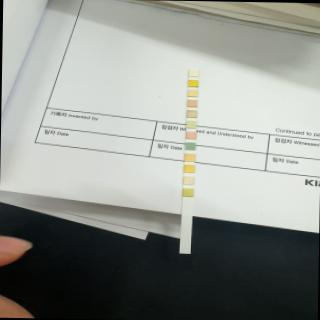mark: (182, 176, 194, 185), (186, 99, 198, 107), (184, 164, 194, 173), (182, 188, 193, 196), (188, 79, 198, 87), (187, 89, 197, 97), (187, 110, 197, 118), (186, 120, 196, 128), (186, 131, 196, 139), (184, 142, 194, 150), (184, 153, 194, 161), (188, 70, 198, 76)
